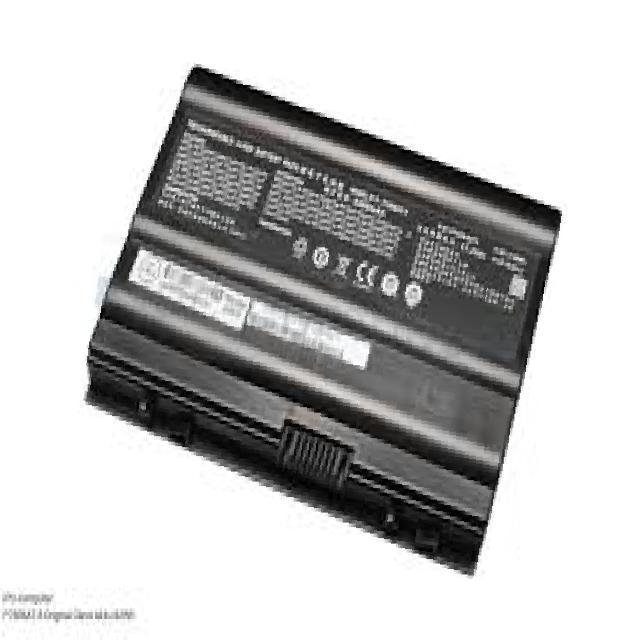Battery: (53, 42, 613, 582)
